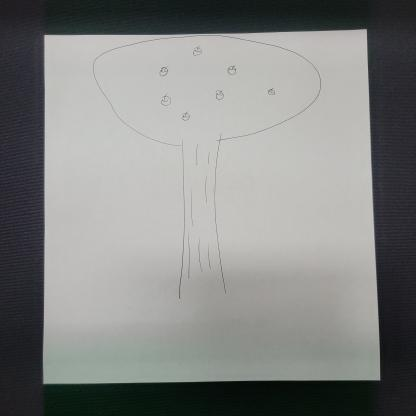apple: (161, 92, 172, 106), (157, 65, 170, 76), (215, 90, 226, 102), (191, 47, 203, 56), (181, 111, 191, 121), (228, 65, 236, 75), (268, 88, 276, 96)
crown_mushroom: (93, 36, 322, 146)
trunk_bark: (178, 152, 224, 268)
